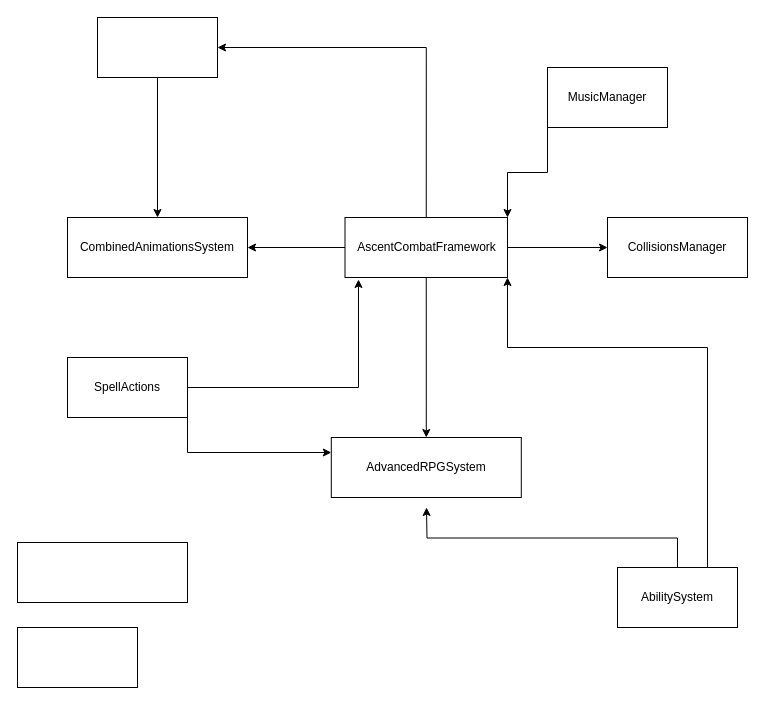
Some shapes in this 765 by 705 pixel diagram are drawn without their labels. Each missing label, with the centre of its shape:
CinematicCameraManager: (x=102, y=572)
LevelStreamer: (x=77, y=657)
TargetingSystem: (x=157, y=47)
